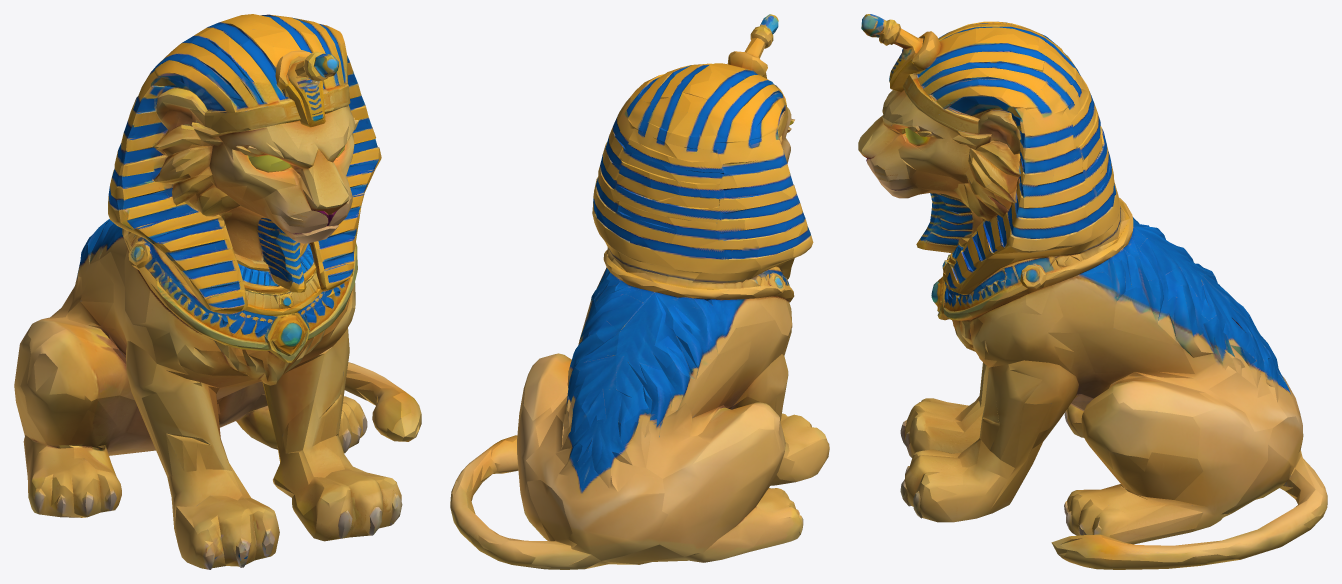
The model's file is sphinx.glb.
3 renders of one model, left to right at view 1: azimuth 30°, elevation 25°; view 2: azimuth 150°, elevation 25°; view 3: azimuth 270°, elevation 25°, orthographic. The views are drawn at different scales.
Size of the model in its own units: 1.49 by 1.9 by 1.74.
1 material, 1 textured.
